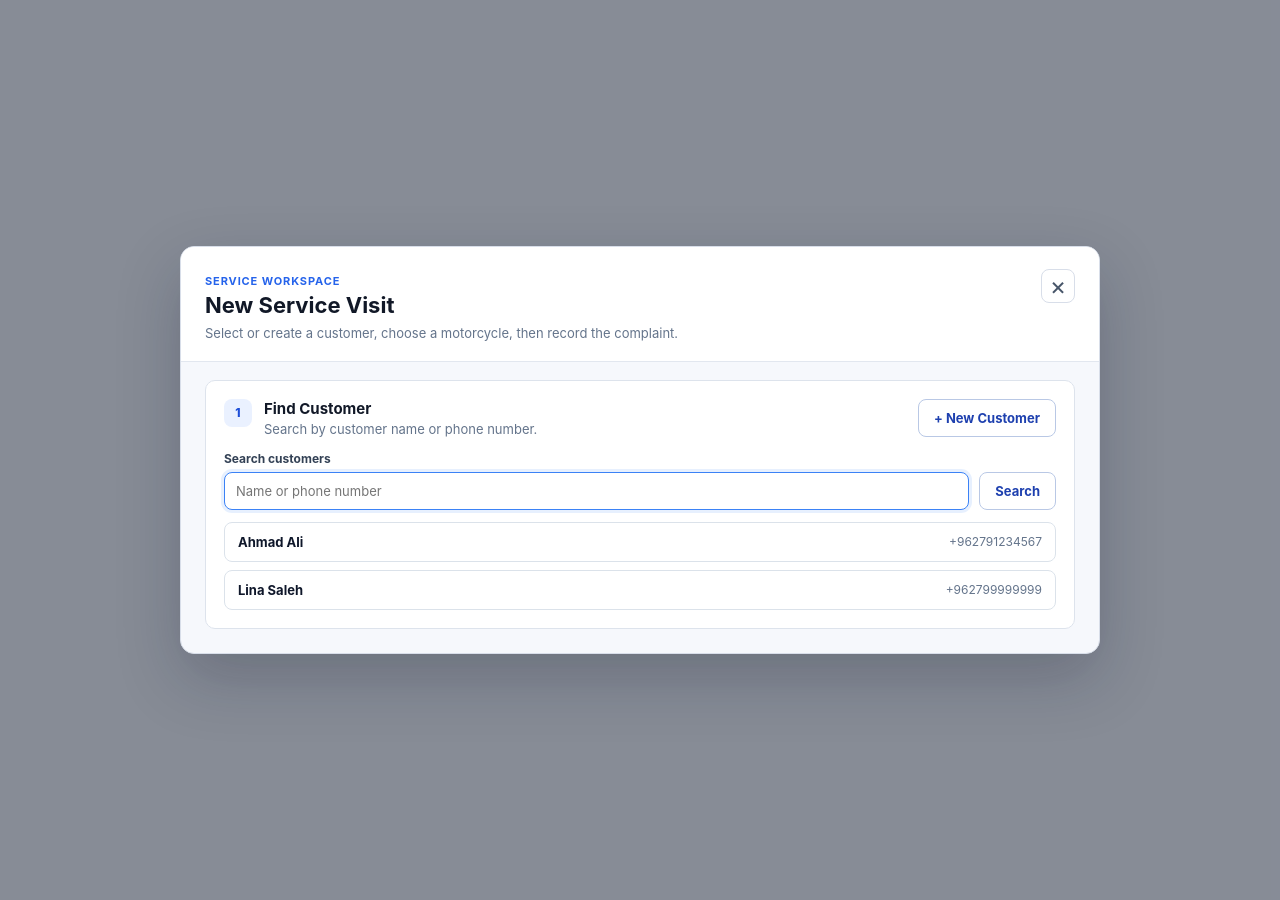
NewServiceVisitDialog › searches by the entered name or phone and shows a safe failed-search state
Expected: the text "Ahmad Ali" is shown, [238, 534, 303, 550]
Type "  Lina  " into the search field labelled "Search customers" at (597, 491), box [224, 472, 969, 510]
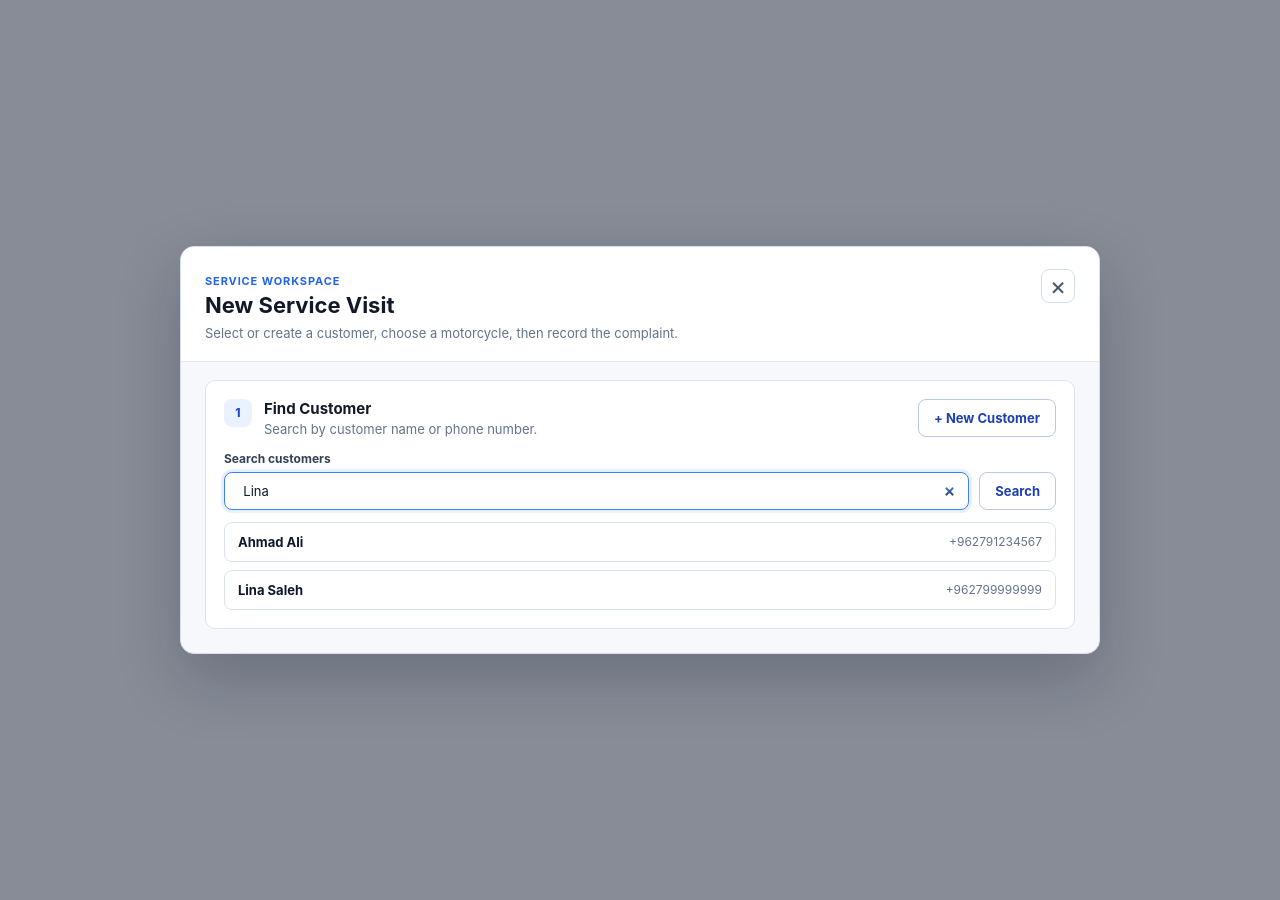
Click the button "Search" at (1018, 491), box [979, 472, 1056, 510]
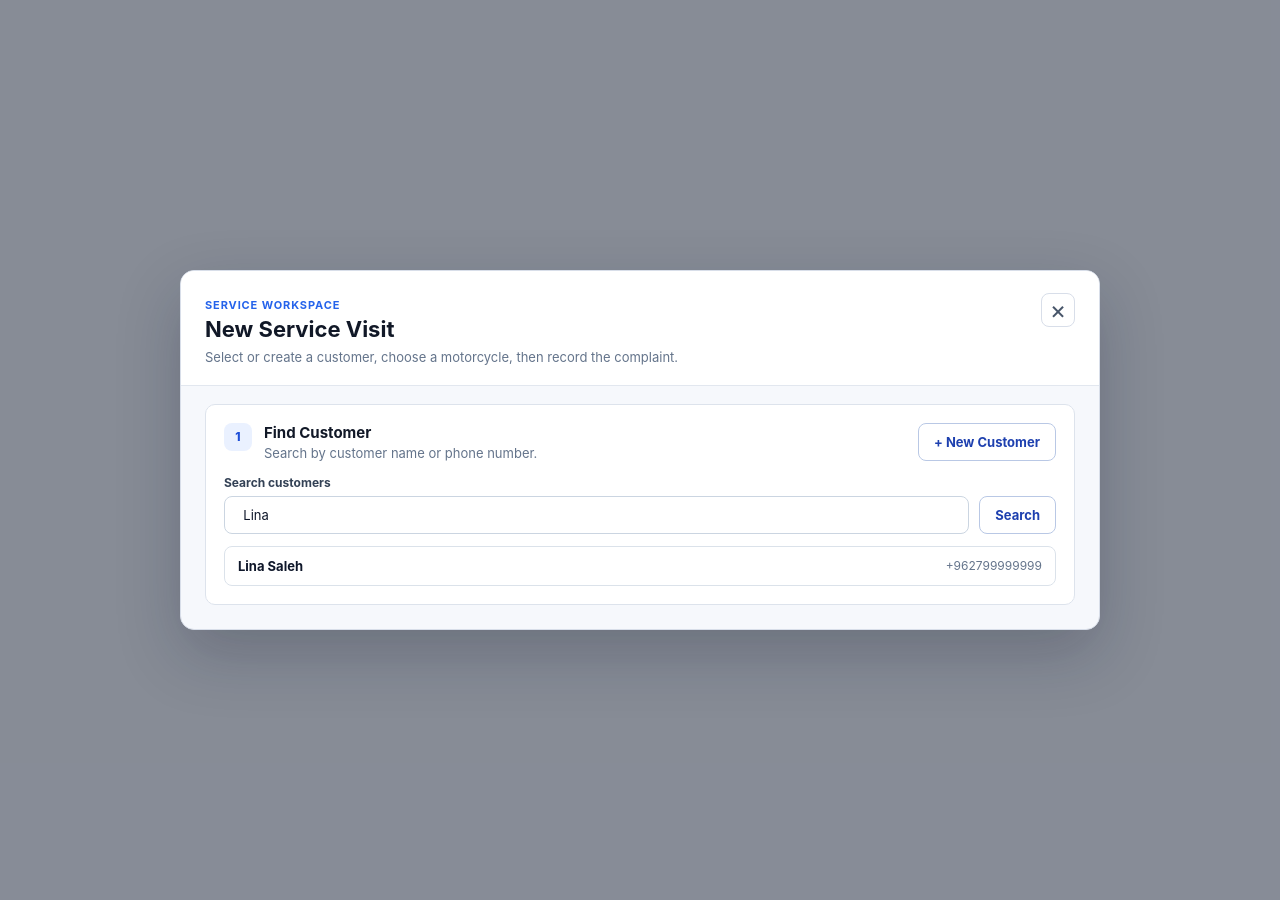
Expected: the text "Lina Saleh" is shown, [238, 558, 303, 574]
Click the button "Search" at (1018, 515), box [979, 496, 1056, 534]
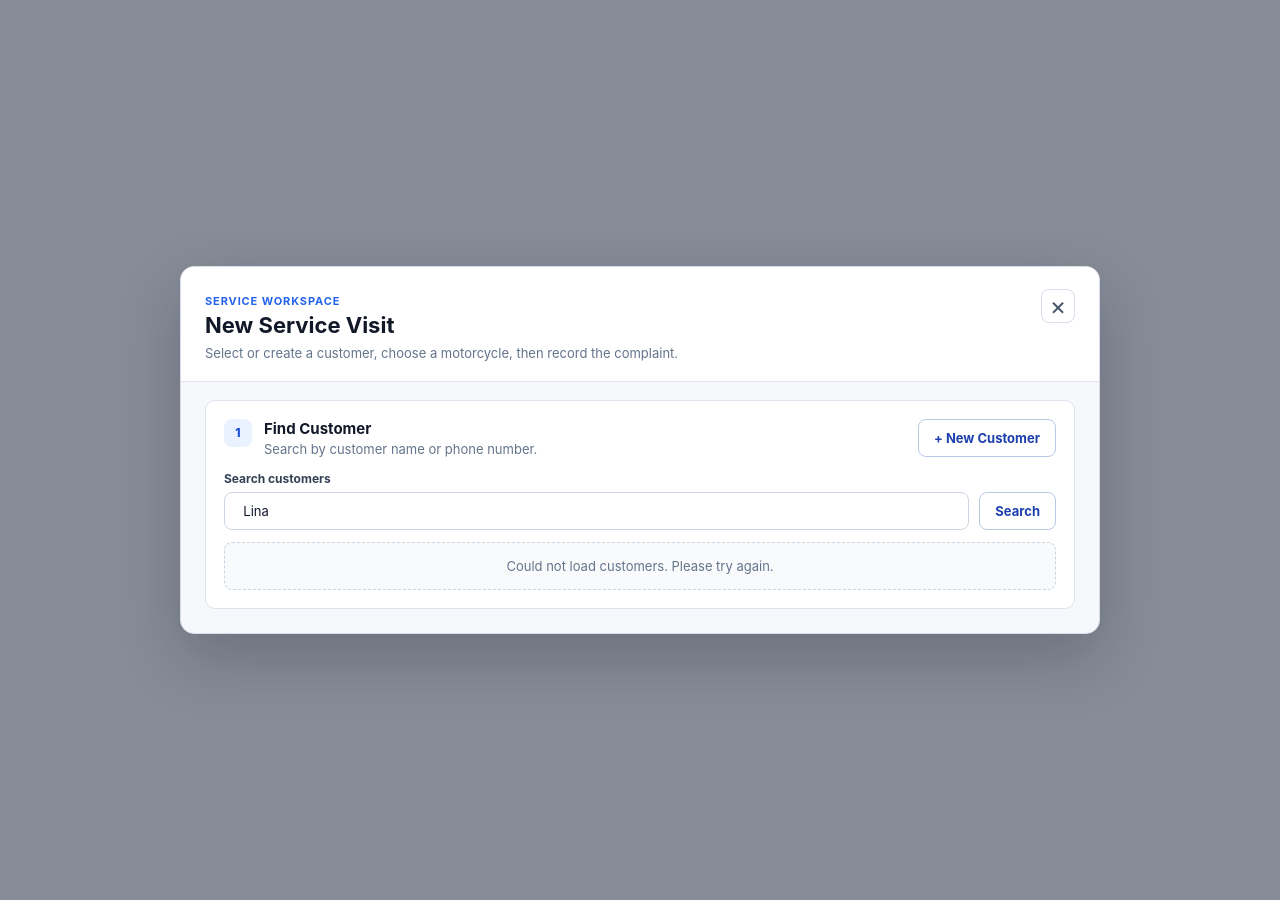
Expected: the text "Could not load customers. Please try again." is shown, [224, 542, 1056, 590]
